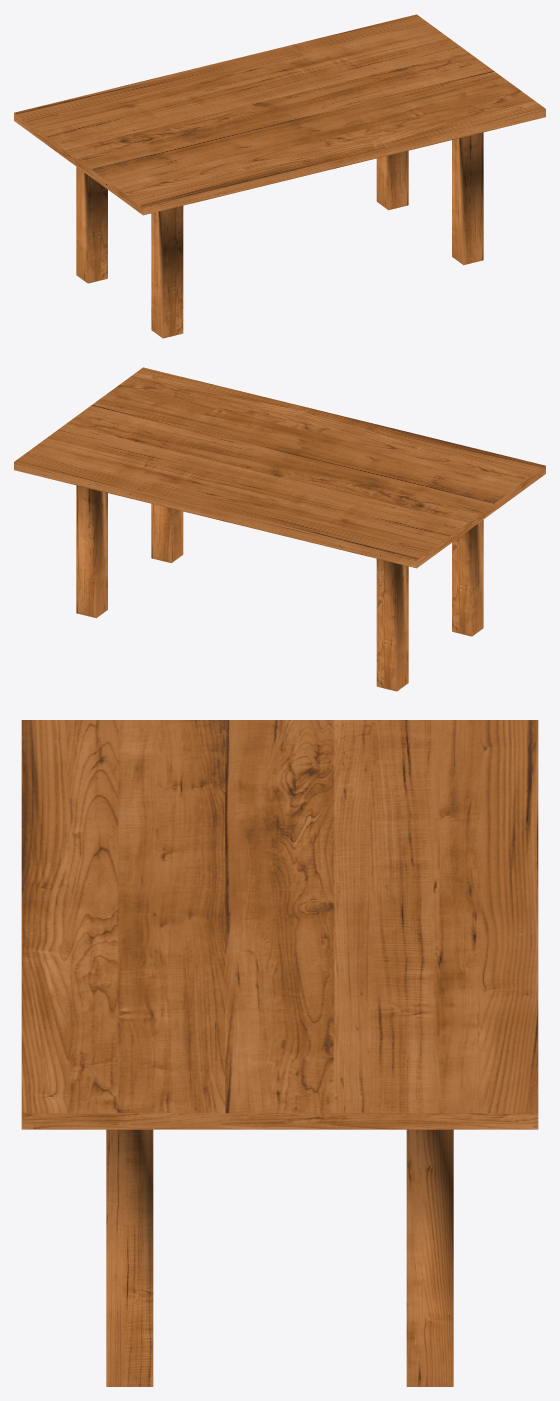
The model's file is table.fbx.
3 views of the same model, one above another, from view 1: azimuth 30°, elevation 25°; view 2: azimuth 150°, elevation 25°; view 3: azimuth 270°, elevation 25° (orthographic). The views are drawn at different scales.
Parts seen in each view (by area): view 1: Box01; view 2: Box01; view 3: Box01.
Boxes of the visible parts, x1,y1,x2,y2 form: Box01: (14,14,545,338); Box01: (14,367,545,691); Box01: (21,720,538,1386).
Size of the model in its own units: 2.84 by 1.06 by 1.58.
Materials: 1 (1 with a texture image).
